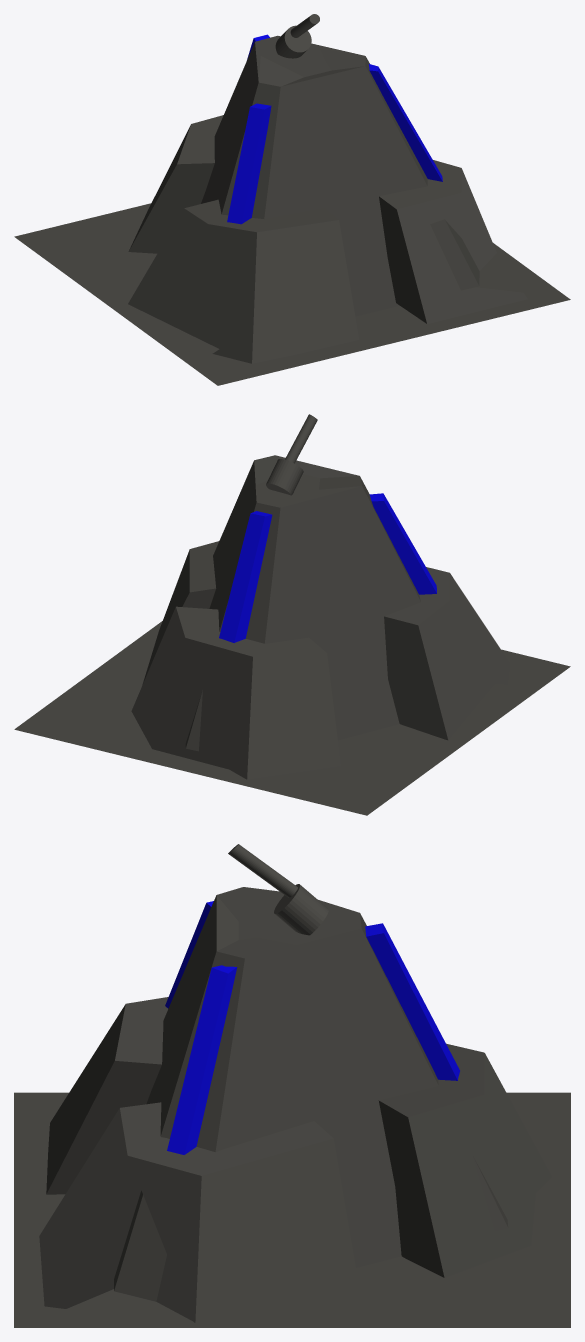
Rendered from Home.fbx.
The picture shows the model from 3 angles, top to bottom: view 1: azimuth 30°, elevation 25°; view 2: azimuth 150°, elevation 25°; view 3: azimuth 270°, elevation 25°; orthographic projection. The views are drawn at different scales.
Parts seen in each view (by area): view 1: 基地, 装甲, Plane, 装甲2, 装甲1, 灯条.001, 灯条.002, 炮筒; view 2: 基地, 装甲1, Plane, 装甲, 灯条, 装甲2, 灯条.001, 炮筒, 炮管？; view 3: 基地, 装甲2, Plane, 装甲1, 装甲, 灯条.002, 灯条, 炮筒, 炮管？, 灯条.001.
Boxes of the visible parts, box(x1,y1,x2,y2) form: 基地: box(201, 35, 479, 316); 装甲: box(128, 199, 359, 363); Plane: box(14, 203, 570, 385); 装甲2: box(379, 160, 527, 323); 装甲1: box(128, 115, 223, 253); 灯条.001: box(227, 103, 271, 224); 灯条.002: box(369, 64, 442, 181); 炮筒: box(275, 25, 311, 58); 基地: box(185, 455, 420, 751); 装甲1: box(131, 606, 340, 779); Plane: box(14, 621, 570, 815); 装甲: box(384, 567, 510, 740); 灯条: box(219, 511, 272, 642); 装甲2: box(142, 541, 219, 684); 灯条.001: box(369, 493, 436, 594); 炮筒: box(266, 459, 303, 495); 炮管？: box(285, 414, 317, 463); 基地: box(114, 887, 508, 1301); 装甲2: box(39, 1102, 360, 1322); Plane: box(14, 1092, 570, 1327); 装甲1: box(378, 1043, 551, 1277); 装甲: box(46, 997, 168, 1194); 灯条.002: box(167, 965, 237, 1154); 灯条: box(365, 923, 459, 1080); 炮筒: box(274, 884, 328, 935); 炮管？: box(228, 844, 297, 897); 灯条.001: box(165, 901, 213, 1008).
Bounding box in the file's own units: 367 × 270 × 367.
